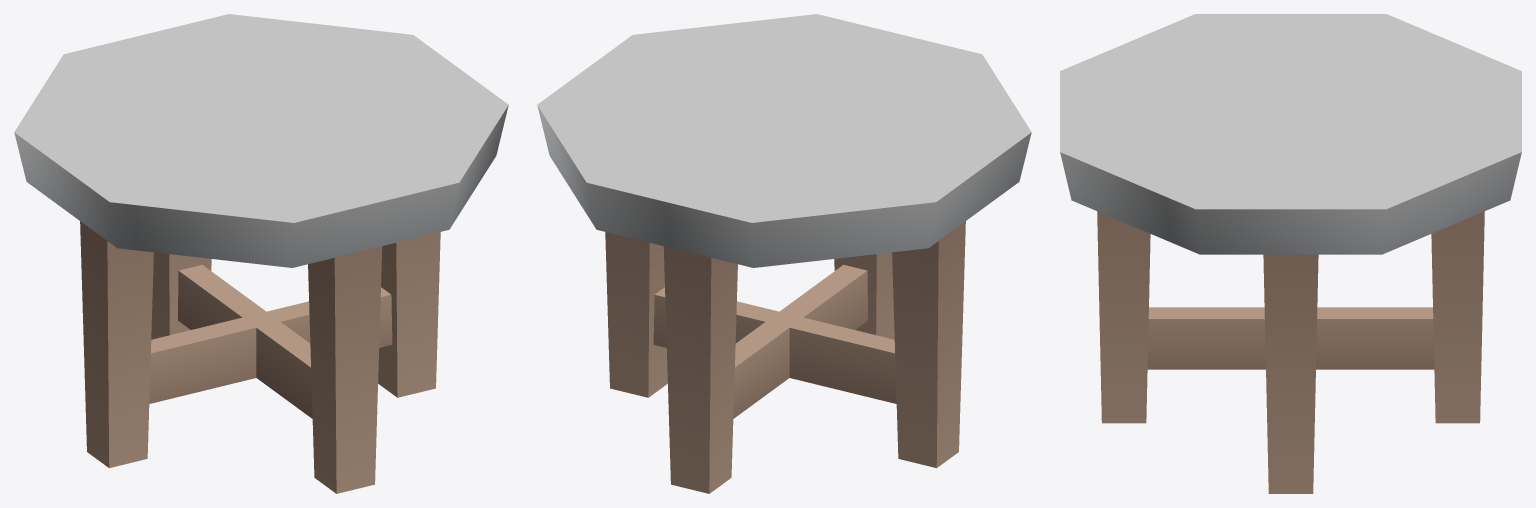
Rendered from table-side-detailed-b.glb.
3 renders of one model, left to right at view 1: azimuth 30°, elevation 25°; view 2: azimuth 150°, elevation 25°; view 3: azimuth 270°, elevation 25°, orthographic.
Parts seen in each view (by area): view 1: table-side-detailed-b; view 2: table-side-detailed-b; view 3: table-side-detailed-b.
Boxes of the visible parts, <box> form: table-side-detailed-b: <box>14,14,508,493</box>; table-side-detailed-b: <box>537,14,1031,493</box>; table-side-detailed-b: <box>1060,14,1521,493</box>.
Size of the model in its own units: 0.4153 by 0.3 by 0.4153.
